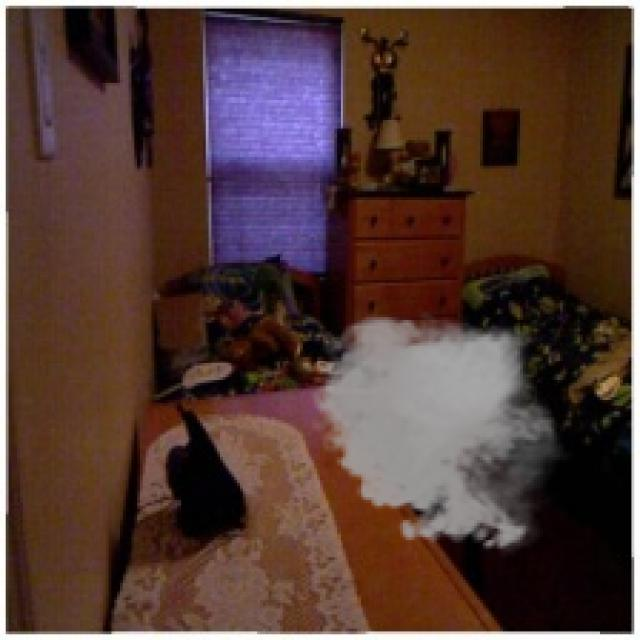smoke: (303, 306, 571, 557)
